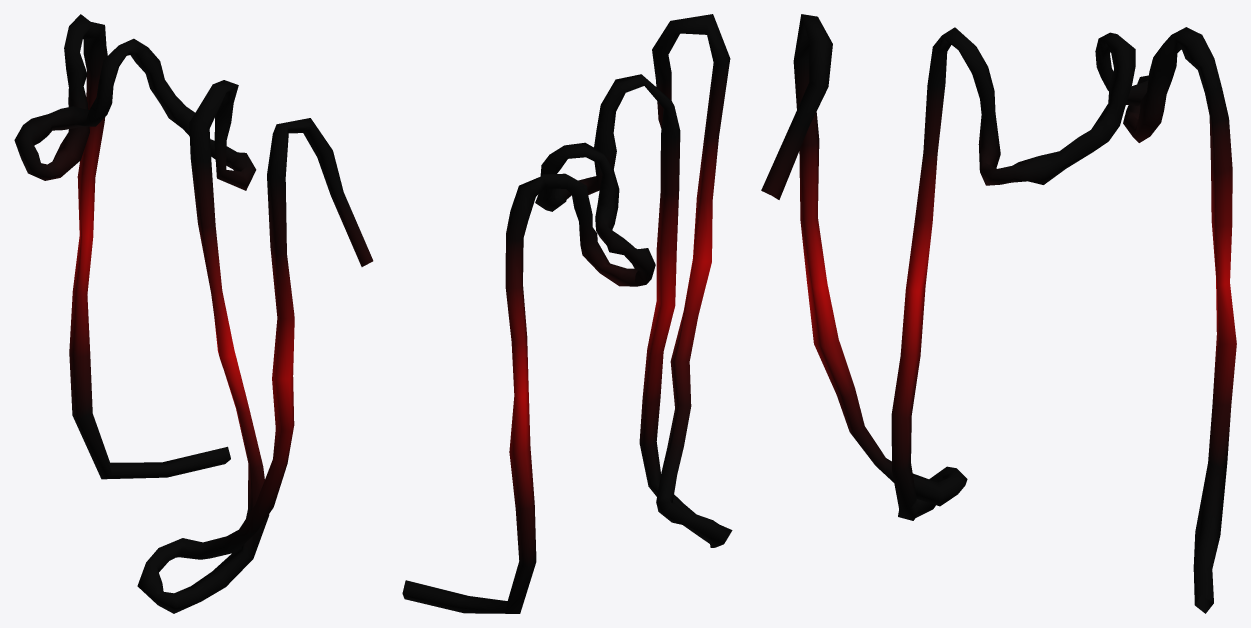
File: SM_Guts_A_Fence_C_05.fbx
3 views of the same model, side by side, from view 1: azimuth 30°, elevation 25°; view 2: azimuth 150°, elevation 25°; view 3: azimuth 270°, elevation 25° (orthographic). The views are drawn at different scales.
Parts seen in each view (by area): view 1: SM_Guts_A_Fence_C_05_LOD0; view 2: SM_Guts_A_Fence_C_05_LOD0; view 3: SM_Guts_A_Fence_C_05_LOD0.
Boxes of the visible parts, bbox=[...] form: SM_Guts_A_Fence_C_05_LOD0: bbox=[14, 14, 373, 613]; SM_Guts_A_Fence_C_05_LOD0: bbox=[402, 14, 732, 613]; SM_Guts_A_Fence_C_05_LOD0: bbox=[761, 14, 1236, 613].
Bounding box in the file's own units: 46.36 × 78.21 × 96.74.
